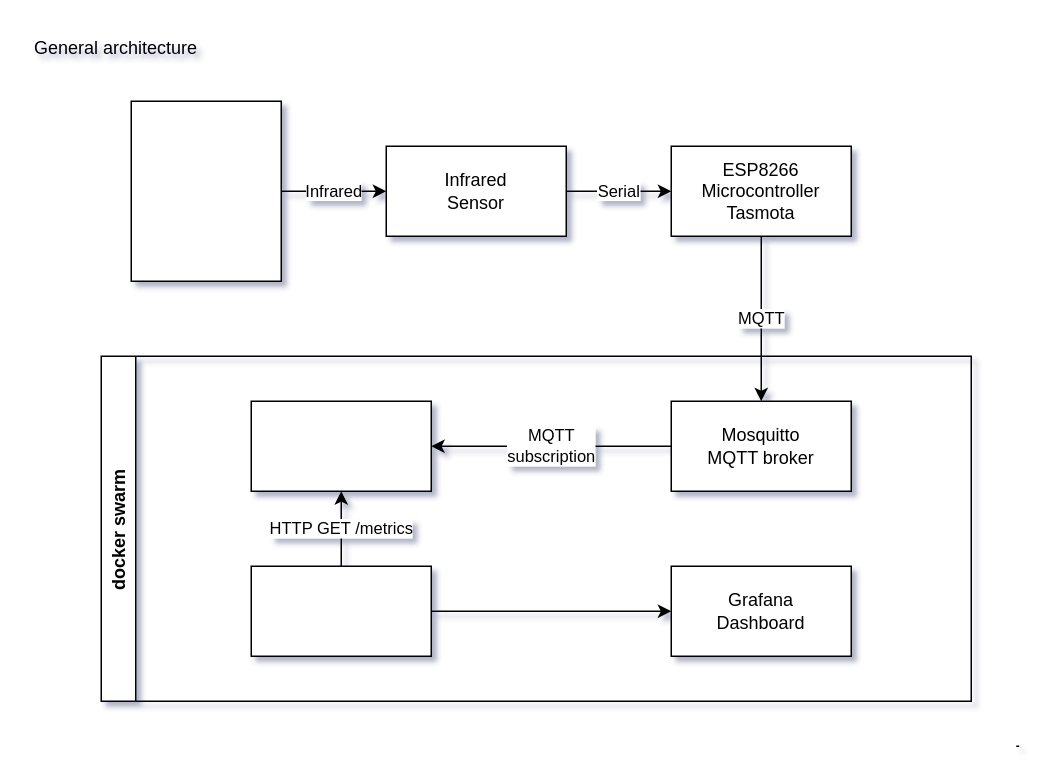
This 1056x783 diagram has some shape labels left out. The centre of each missing label's shape, as x and y in pixels:
"Landis+Gyr E350 Electric Meter" belongs at (x=205, y=190).
"Prometheus" belongs at (x=340, y=610).
"tasmota-prometheus-gateway" belongs at (x=340, y=445).
